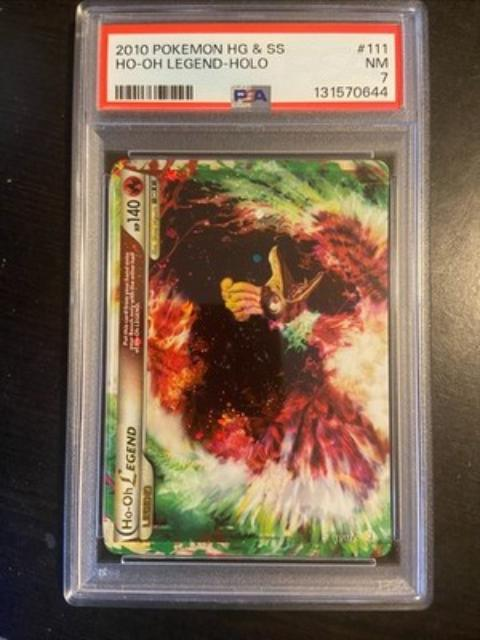Card: (100, 155, 395, 562)
Name: (116, 418, 142, 535)
